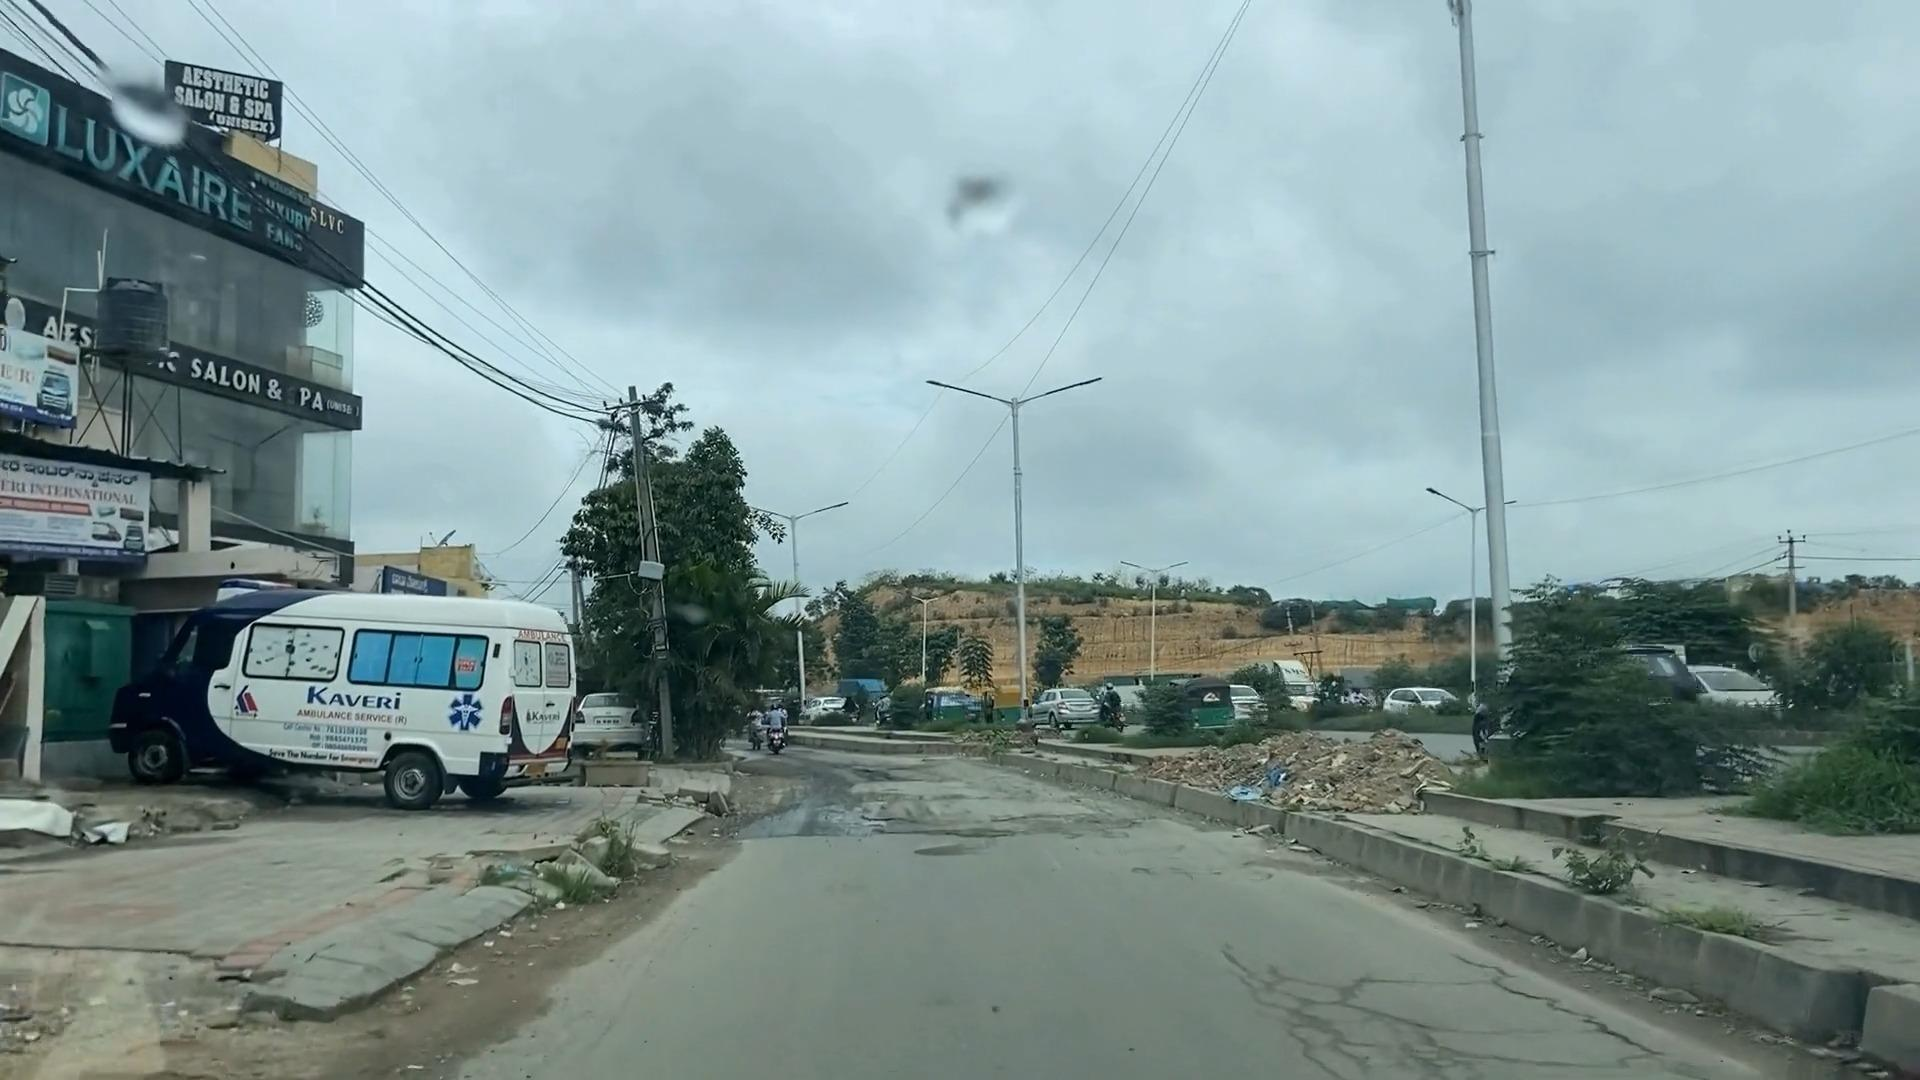RoadDamages: (1224, 943, 1677, 1080), (744, 764, 1051, 869)
